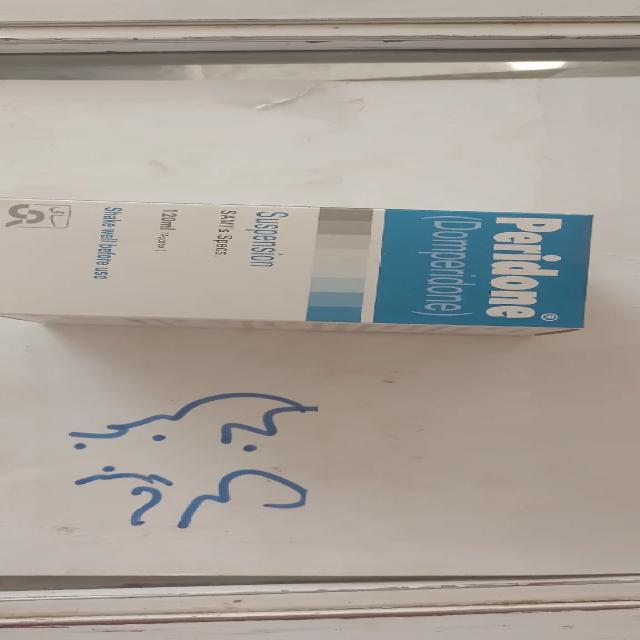drug-name: (485, 217, 565, 322)
